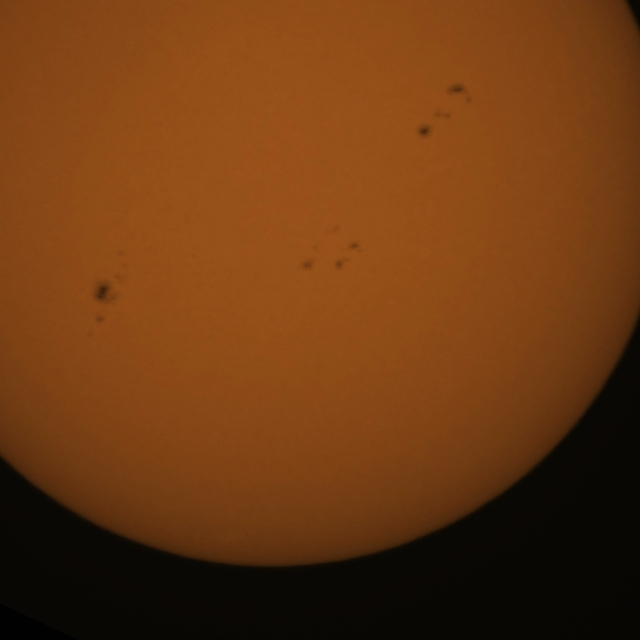sunspot: (294, 241, 360, 274), (416, 110, 454, 140), (92, 272, 122, 310), (333, 241, 363, 272), (444, 81, 474, 107), (298, 244, 319, 273), (415, 122, 433, 141), (94, 314, 106, 328)
